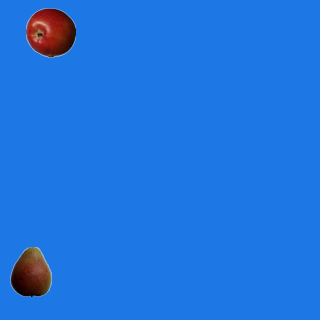Apple Braeburn: (25, 7, 75, 57)
Pear Forelle: (5, 246, 55, 296)
